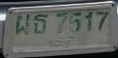txt19: (32, 12, 48, 34)
txt23: (14, 13, 31, 36)
